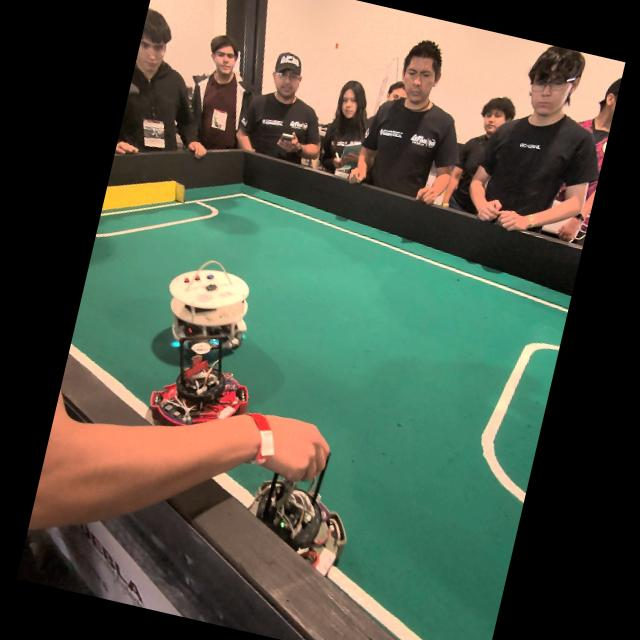goal: (100, 180, 183, 208)
robot: (248, 466, 345, 574), (149, 334, 247, 425), (167, 264, 248, 356)
